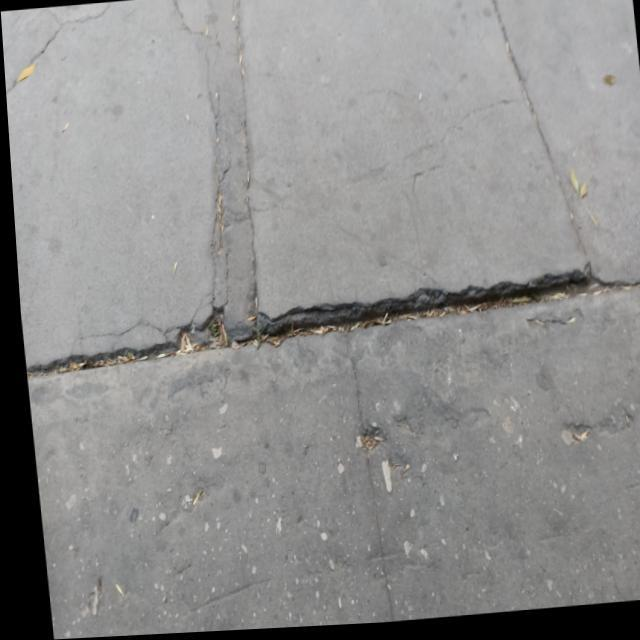hole: (240, 244, 638, 372)
